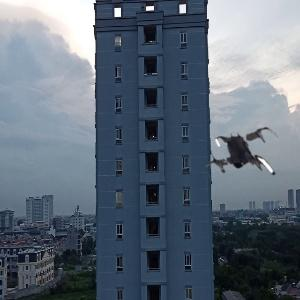drone: (203, 118, 289, 204)
